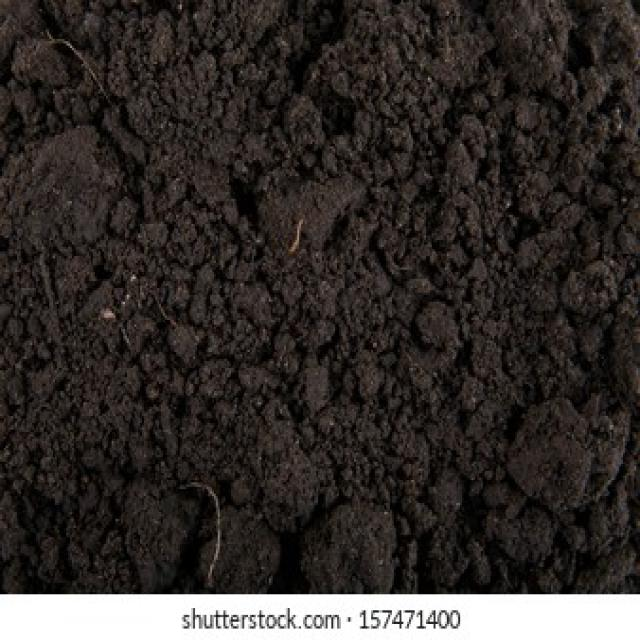Black Soil: (66, 55, 592, 528)
